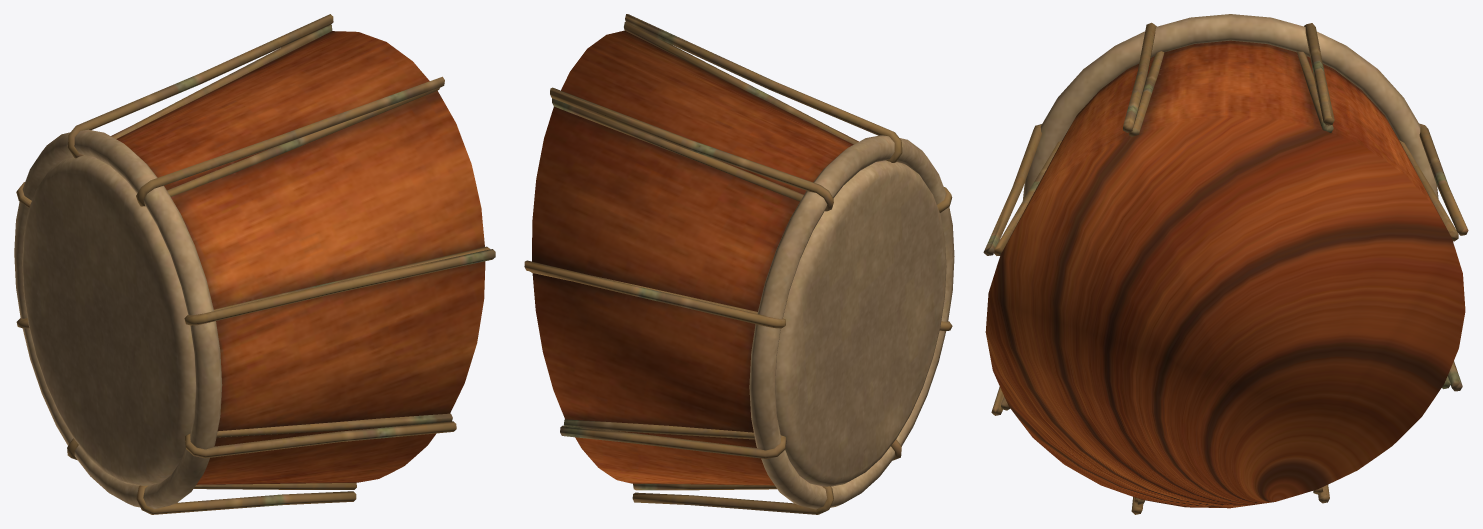
The model's file is Gendang_Terputus5.fbx.
3 views of the same model, side by side, from view 1: azimuth 30°, elevation 25°; view 2: azimuth 150°, elevation 25°; view 3: azimuth 270°, elevation 25° (orthographic). The views are drawn at different scales.
Visible parts, largest first — view 1: Cylinder_Gendang_0; view 2: Cylinder_Gendang_0; view 3: Cylinder_Gendang_0.
Part boxes in pixels (x1,y1,x2,y2): Cylinder_Gendang_0: (14, 14, 495, 514); Cylinder_Gendang_0: (524, 14, 954, 514); Cylinder_Gendang_0: (983, 14, 1468, 514).
Size of the model in its own units: 644 by 858 by 861.
1 material, 1 textured.
